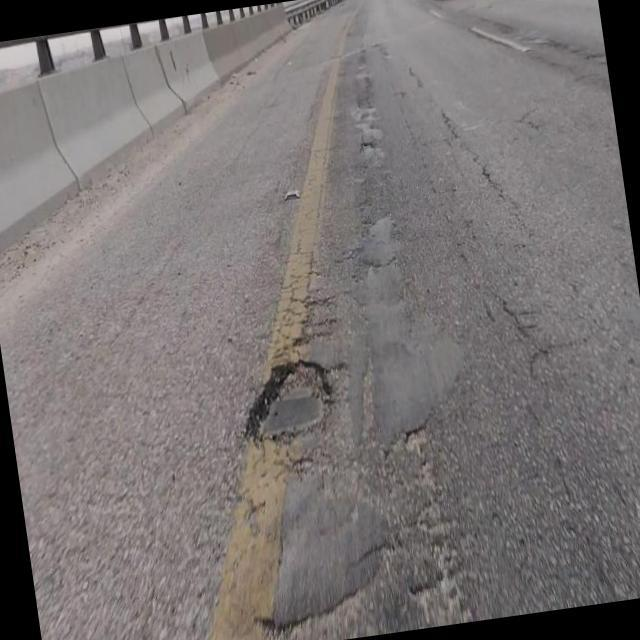Pothole: (243, 360, 335, 443)
